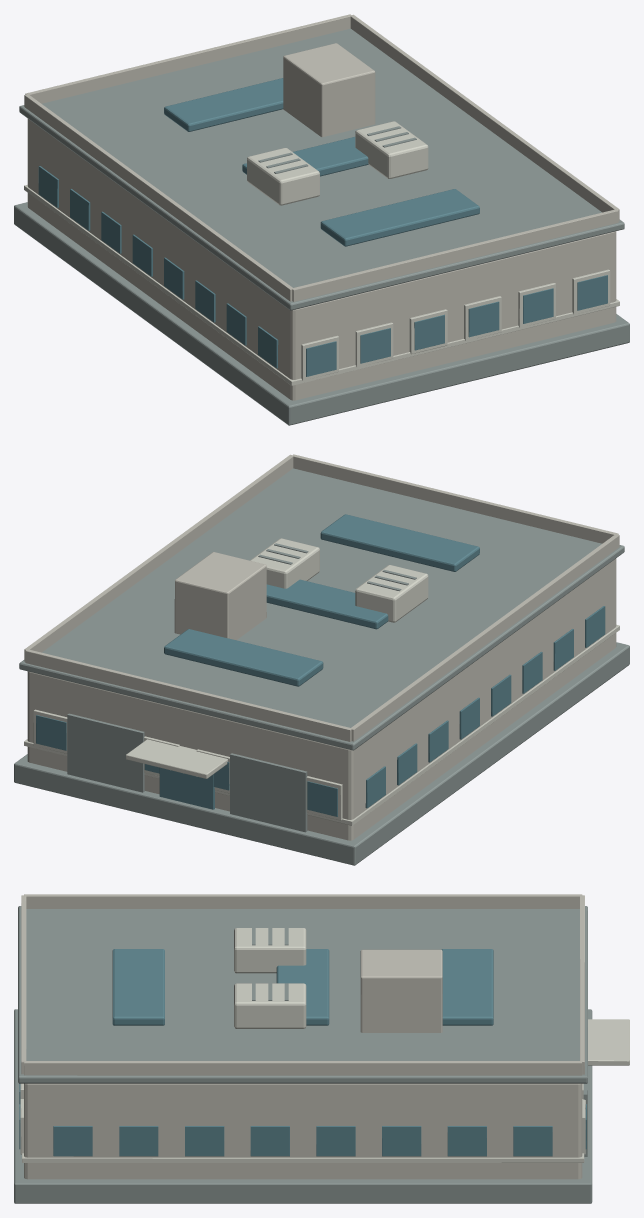
File: building-warehouse.glb
3 renders of one model, top to bottom at view 1: azimuth 30°, elevation 25°; view 2: azimuth 150°, elevation 25°; view 3: azimuth 270°, elevation 25°, orthographic. The views are drawn at different scales.
Parts seen in each view (by area): view 1: core-Roof membrane-surfaces, core-Warm concrete-surfaces, core-Blue architectural glass-surfaces, core-Aluminum facade-surfaces; view 2: core-Roof membrane-surfaces, core-Warm concrete-surfaces, core-Blue architectural glass-surfaces, core-Aluminum facade-surfaces; view 3: core-Roof membrane-surfaces, core-Warm concrete-surfaces, core-Blue architectural glass-surfaces, core-Aluminum facade-surfaces.
Boxes of the visible parts, left/top/right/bottom form: core-Roof membrane-surfaces: left=14, top=28, right=629, bottom=425; core-Warm concrete-surfaces: left=24, top=14, right=619, bottom=400; core-Blue architectural glass-surfaces: left=38, top=78, right=607, bottom=376; core-Aluminum facade-surfaces: left=24, top=121, right=619, bottom=385; core-Roof membrane-surfaces: left=14, top=468, right=629, bottom=865; core-Warm concrete-surfaces: left=24, top=454, right=619, bottom=840; core-Blue architectural glass-surfaces: left=36, top=514, right=605, bottom=816; core-Aluminum facade-surfaces: left=24, top=538, right=619, bottom=825; core-Roof membrane-surfaces: left=14, top=906, right=592, bottom=1203; core-Warm concrete-surfaces: left=21, top=894, right=584, bottom=1179; core-Blue architectural glass-surfaces: left=19, top=949, right=586, bottom=1156; core-Aluminum facade-surfaces: left=20, top=928, right=629, bottom=1162.
Size of the model in its own units: 12.6 by 6.1 by 18.75.
